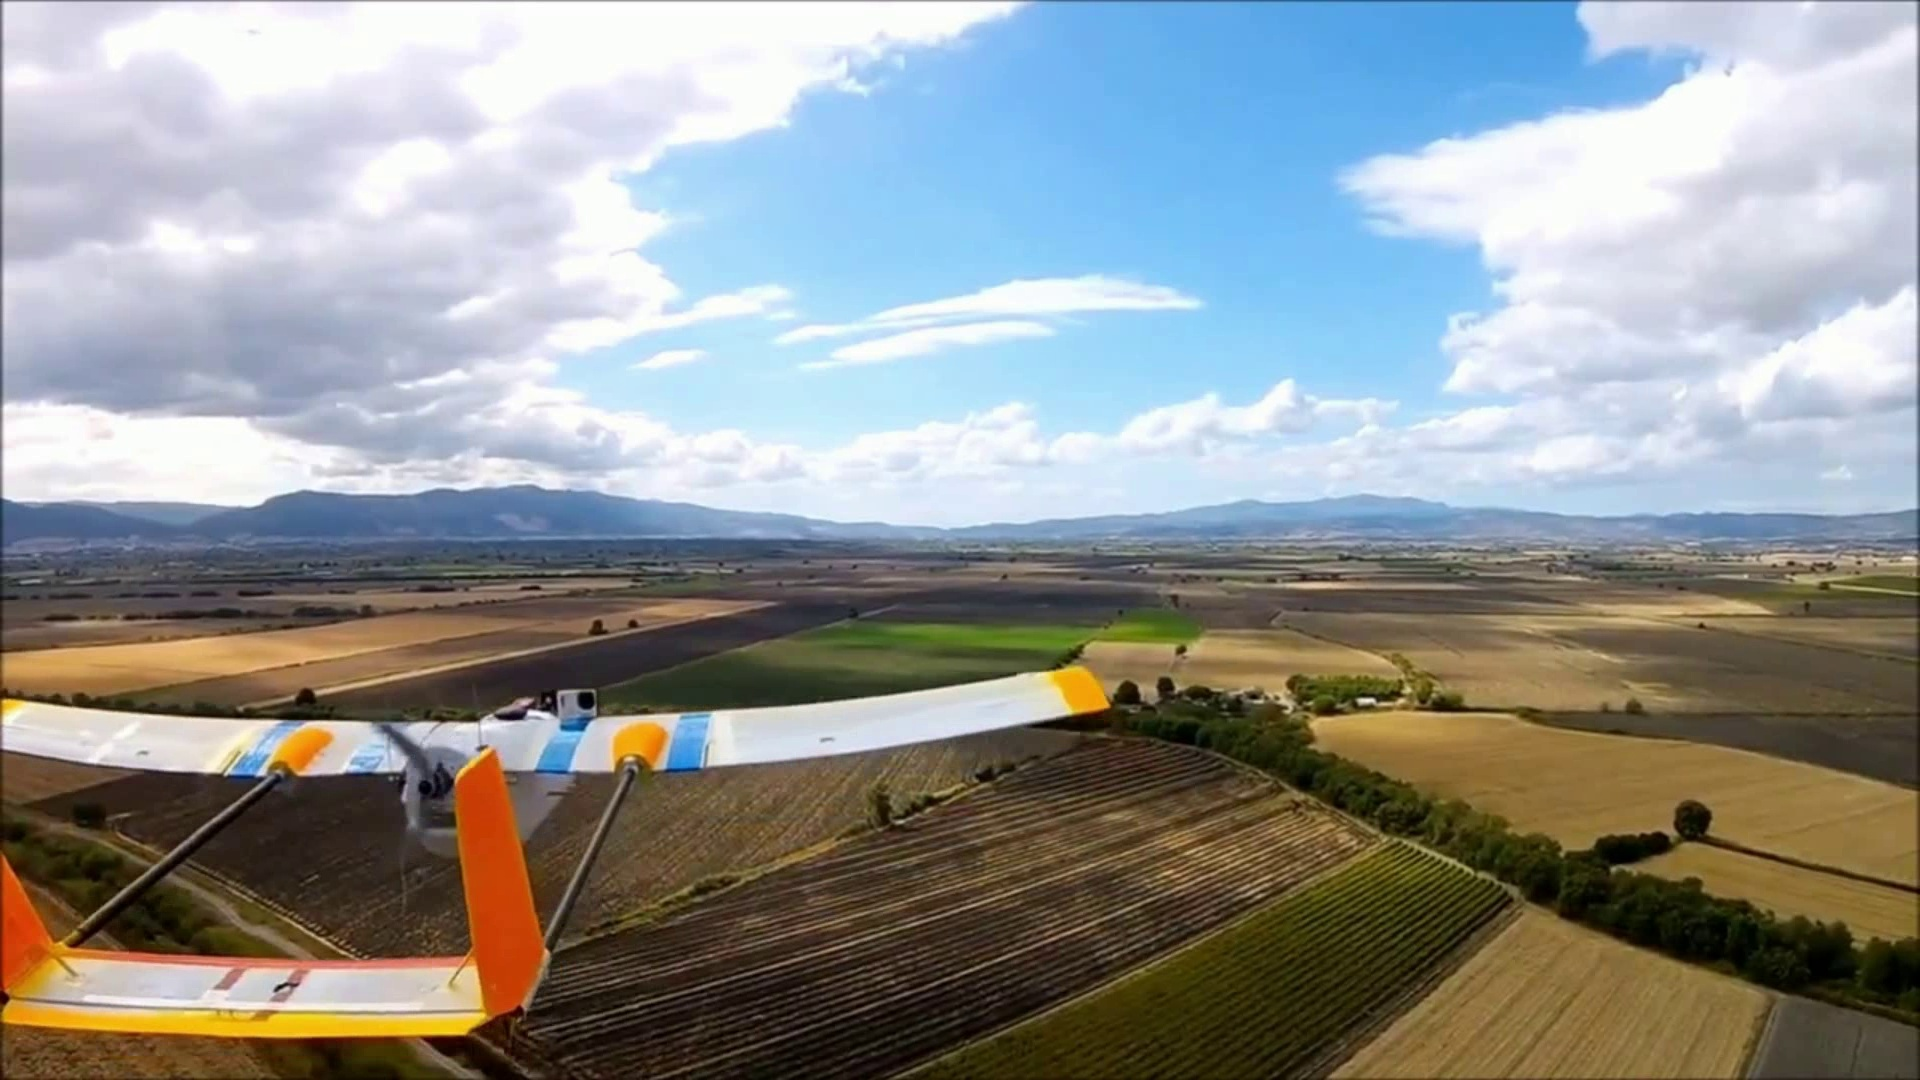airplane: (3, 655, 1129, 1065)
